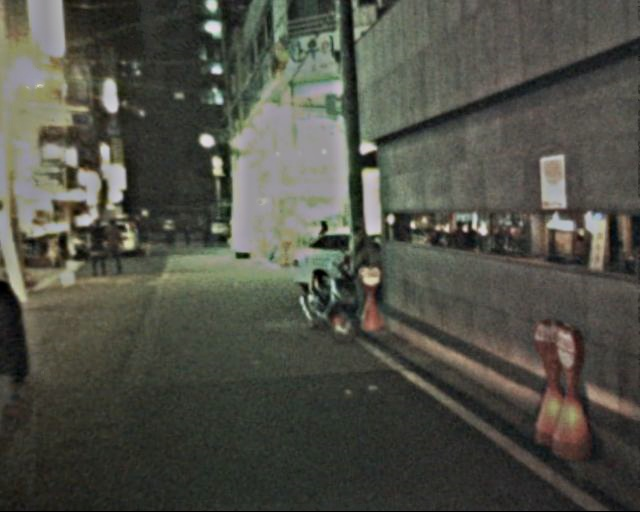person: (1, 226, 40, 487), (131, 211, 219, 250), (104, 221, 131, 282), (86, 217, 111, 279)
